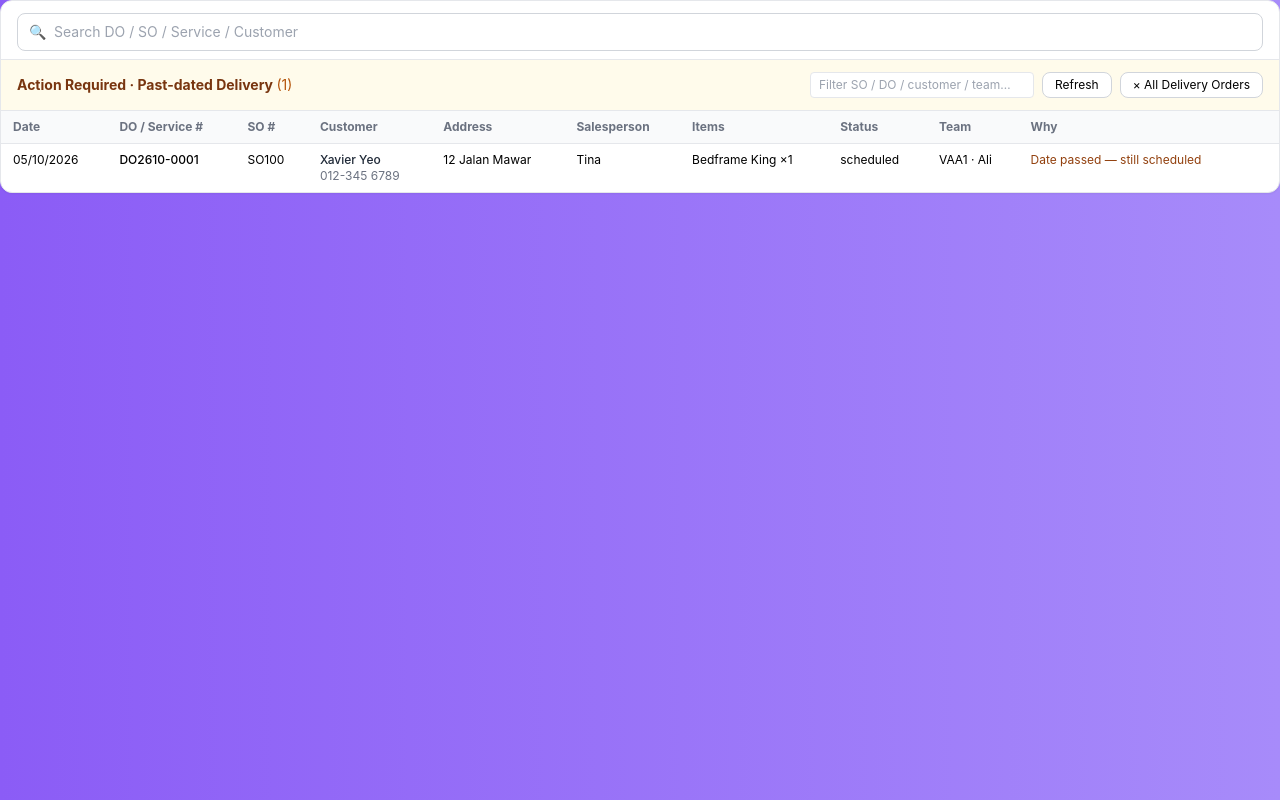
Test: Delivery Orders drill-down › a past-dated card opens that category's list; × returns to all Delivery Orders
Expected: the element with test id "action-category-list" is shown, [1,60,1279,192]
Expected: the text "DO2610-0001" is shown, [107,144,235,192]
Click the button with test id "action-list-close".
click(1191, 85)  # box [1120,72,1263,98]
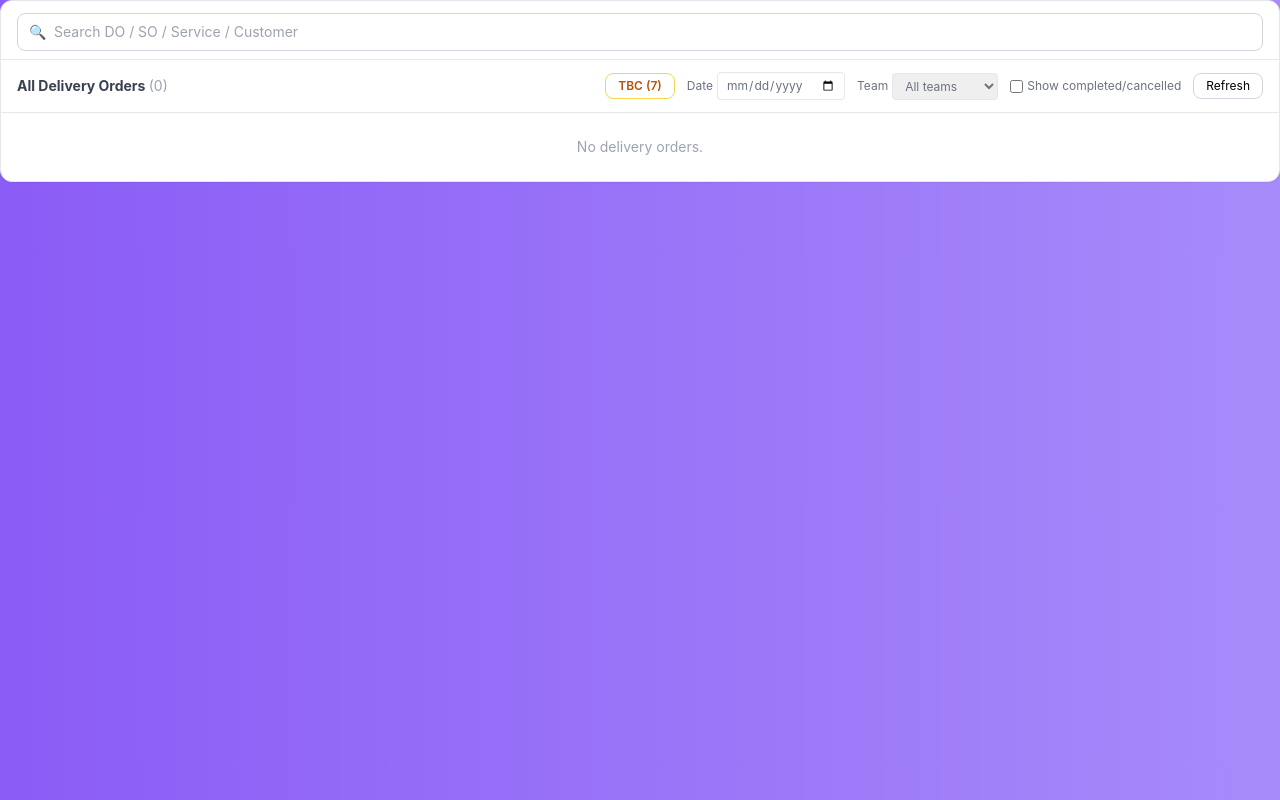
Expected: the element with test id "action-category-list" is gone
Expected: the heading "All Delivery Orders (0)" is shown, [17,76,168,96]
